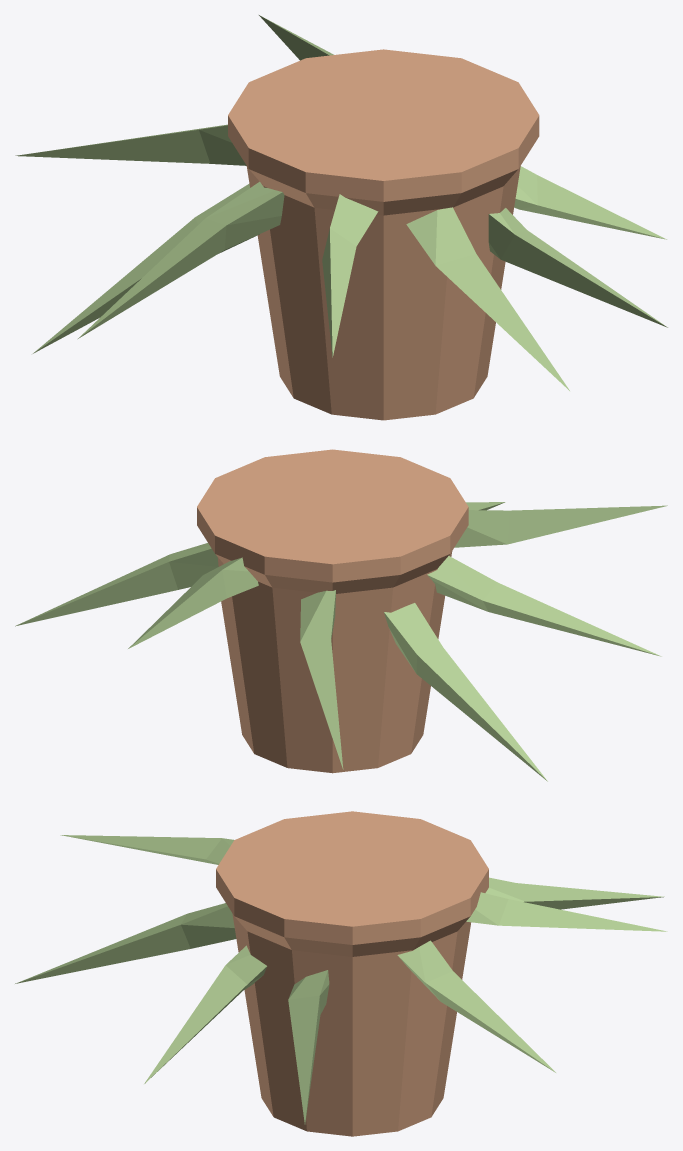
File: lab_potted_plant_wilted.glb
The picture shows the model from 3 angles, top to bottom: view 1: azimuth 30°, elevation 25°; view 2: azimuth 150°, elevation 25°; view 3: azimuth 270°, elevation 25°; orthographic projection. The views are drawn at different scales.
Visible parts, largest first — view 1: lab_potted_plant_wilted; view 2: lab_potted_plant_wilted; view 3: lab_potted_plant_wilted.
Boxes of the visible parts, x1=… form: lab_potted_plant_wilted: x1=15, y1=15, x2=667, y2=420; lab_potted_plant_wilted: x1=15, y1=449, x2=667, y2=781; lab_potted_plant_wilted: x1=15, y1=811, x2=667, y2=1136.
Bounding box in the file's own units: 1.2 × 0.5 × 1.3.
